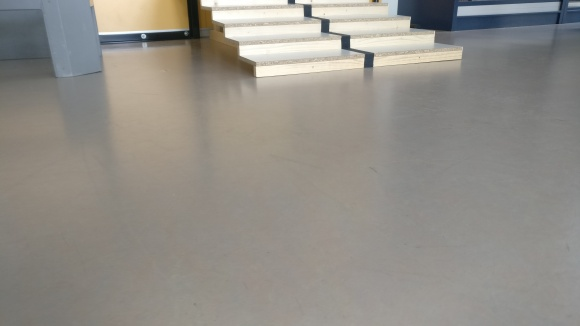stairs: (191, 1, 464, 78)
